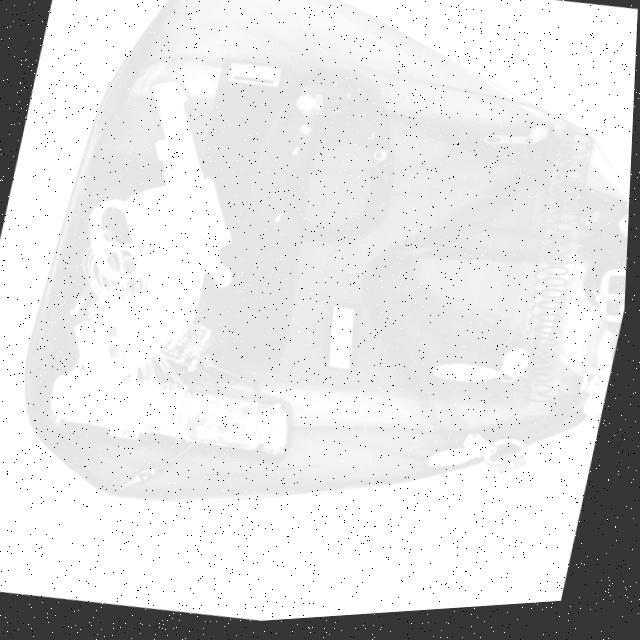pistol: (51, 68, 277, 414)
